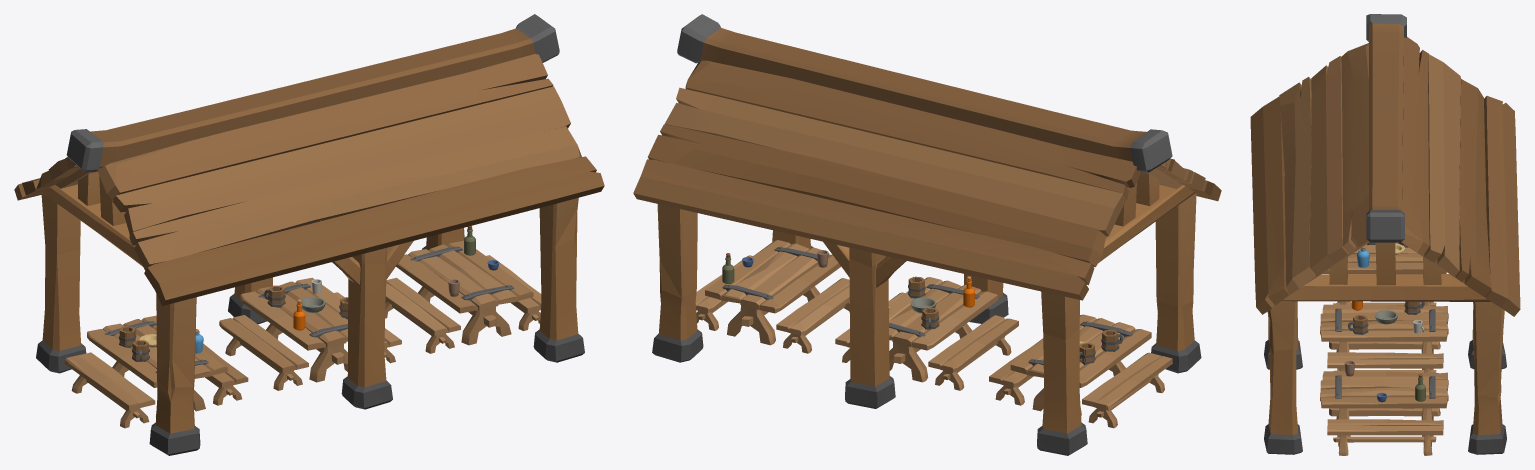
The model's file is Market_B.fbx.
3 views of the same model, side by side, from view 1: azimuth 30°, elevation 25°; view 2: azimuth 150°, elevation 25°; view 3: azimuth 270°, elevation 25° (orthographic). The views are drawn at different scales.
Parts seen in each view (by area): view 1: Market_B; view 2: Market_B; view 3: Market_B.
Boxes of the visible parts, x1,y1,x2,y2 form: Market_B: (14,14,604,455); Market_B: (633,14,1221,455); Market_B: (1250,14,1520,455).
Size of the model in its own units: 848 by 476 by 461.
